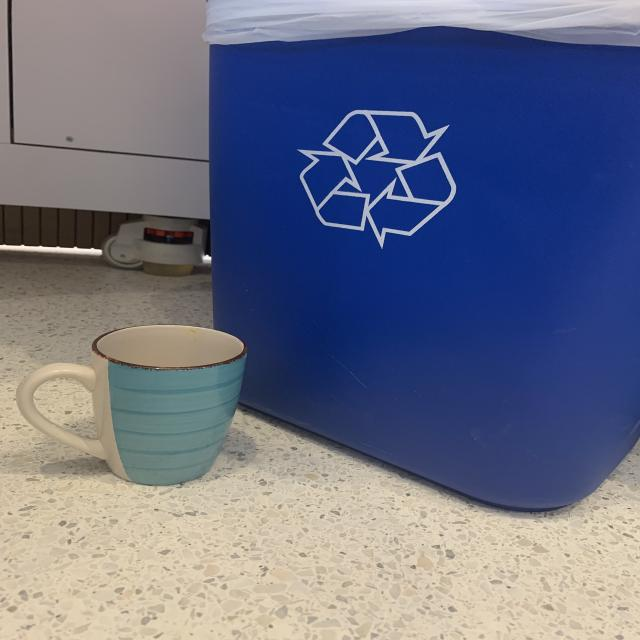Cup: (16, 324, 253, 494)
